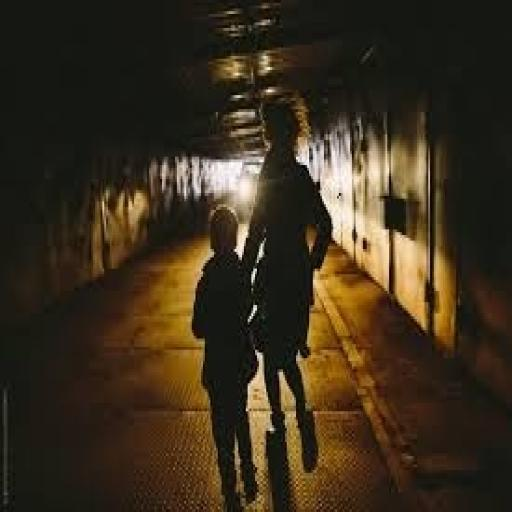running: (238, 95, 335, 476), (188, 202, 263, 510)
